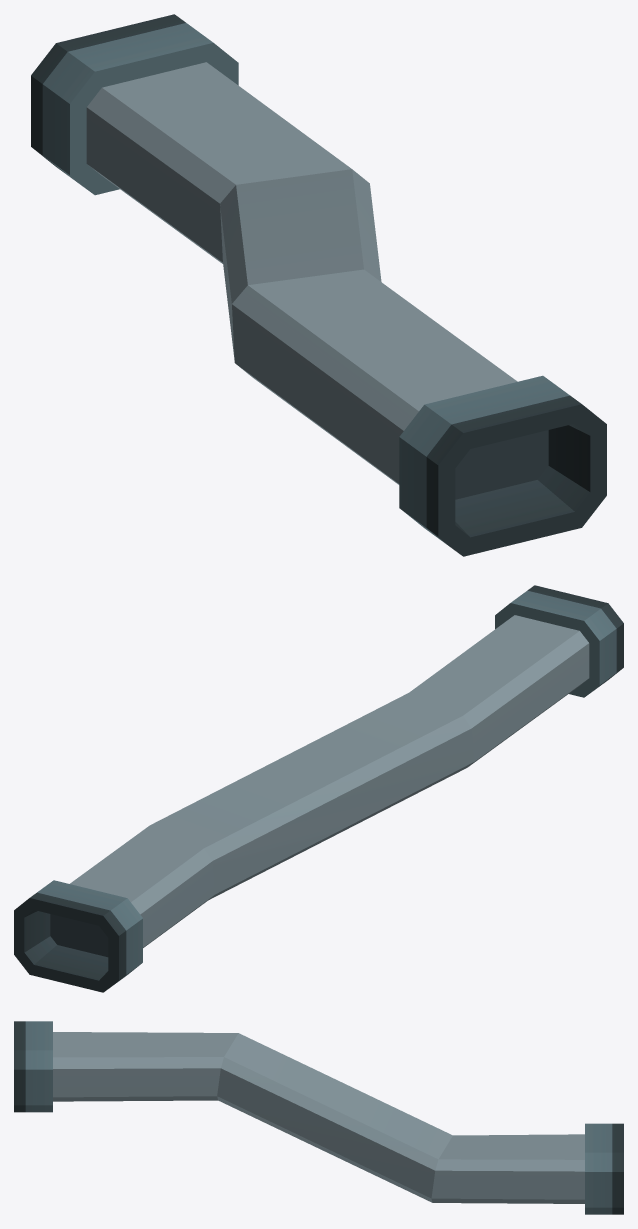
The model's file is Vent_tube_003.glb.
The picture shows the model from 3 angles, top to bottom: view 1: azimuth 30°, elevation 25°; view 2: azimuth 150°, elevation 25°; view 3: azimuth 270°, elevation 25°; orthographic projection. The views are drawn at different scales.
Visible parts, largest first — view 1: Vent_tube_003; view 2: Vent_tube_003; view 3: Vent_tube_003.
Boxes of the visible parts, x1,y1,x2,y2 form: Vent_tube_003: (31,14,606,556); Vent_tube_003: (14,585,623,992); Vent_tube_003: (14,1021,623,1214).
Size of the model in its own units: 1.1 by 0.65 by 3.13.
Materials: 1 (1 with a texture image).
